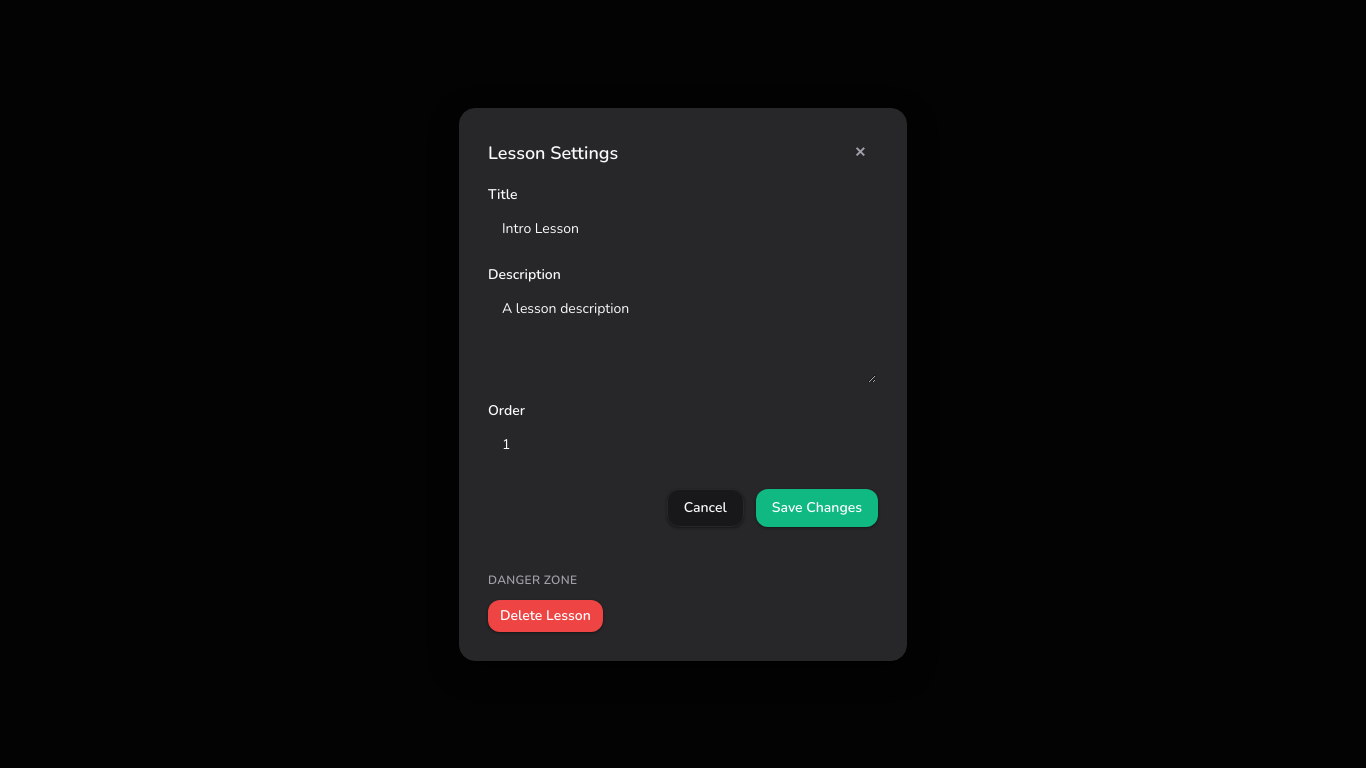
Test case: LessonSettingsModal › hides confirm dialog when cancel is clicked
Click the button "Delete Lesson". click: (545, 616)
box: x1=488 y1=600 x2=603 y2=632
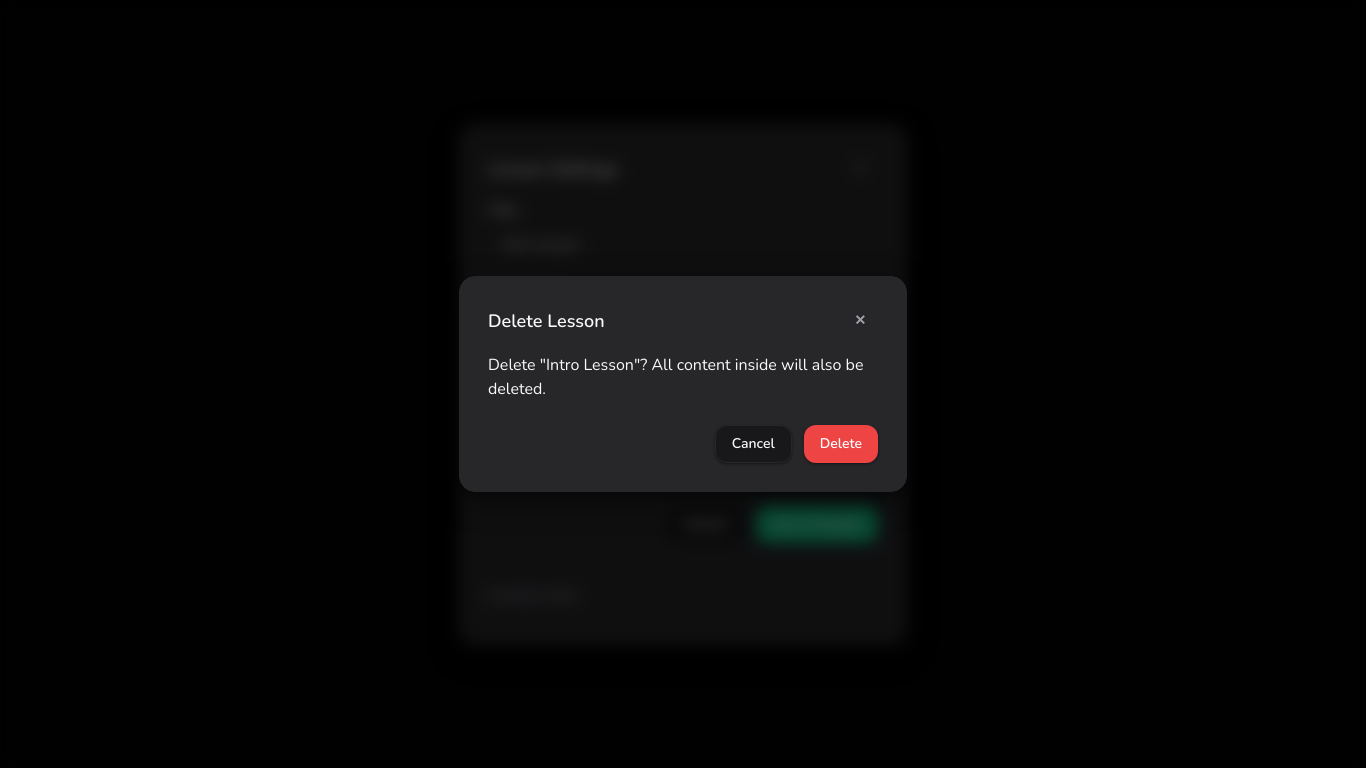
Click the button "Cancel". click: (753, 444)
box: x1=715 y1=425 x2=792 y2=463
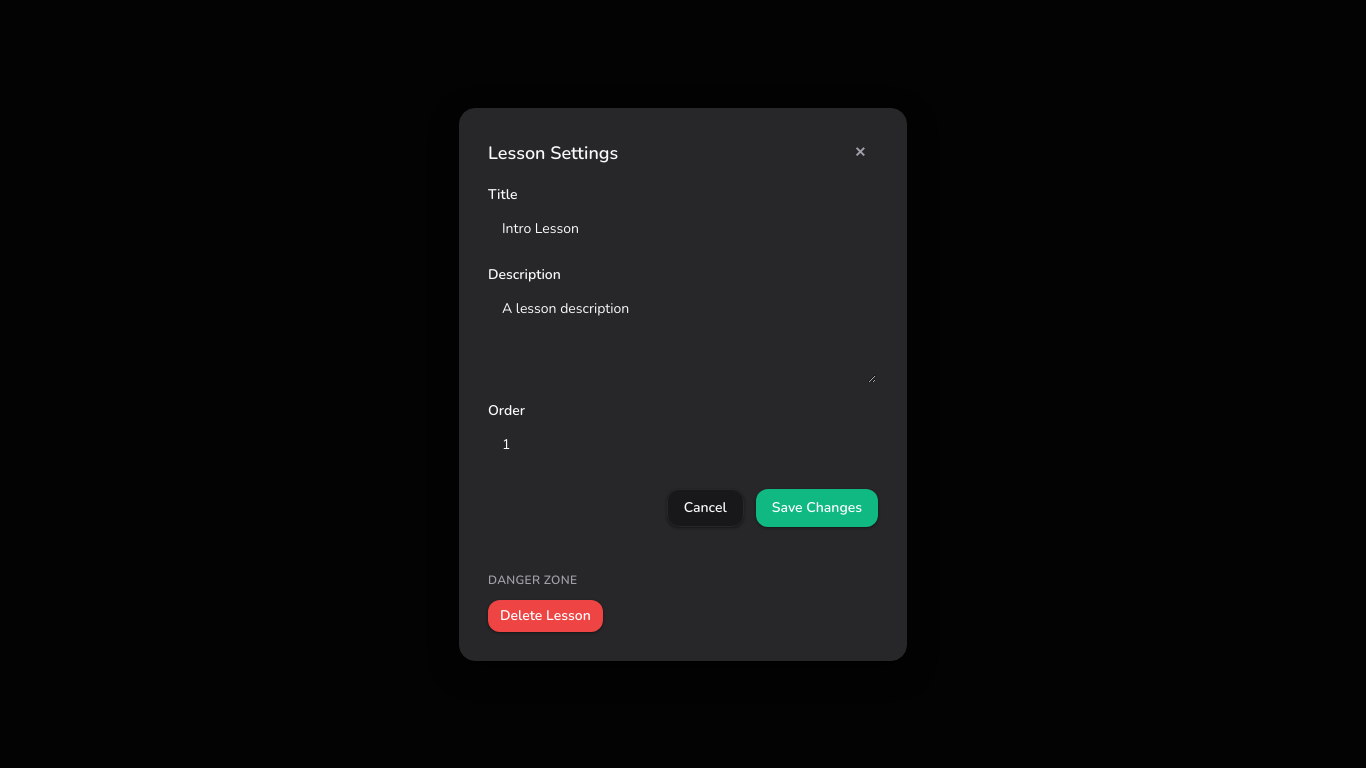
Expected: the text "Delete \"Intro Lesson\"" is gone
